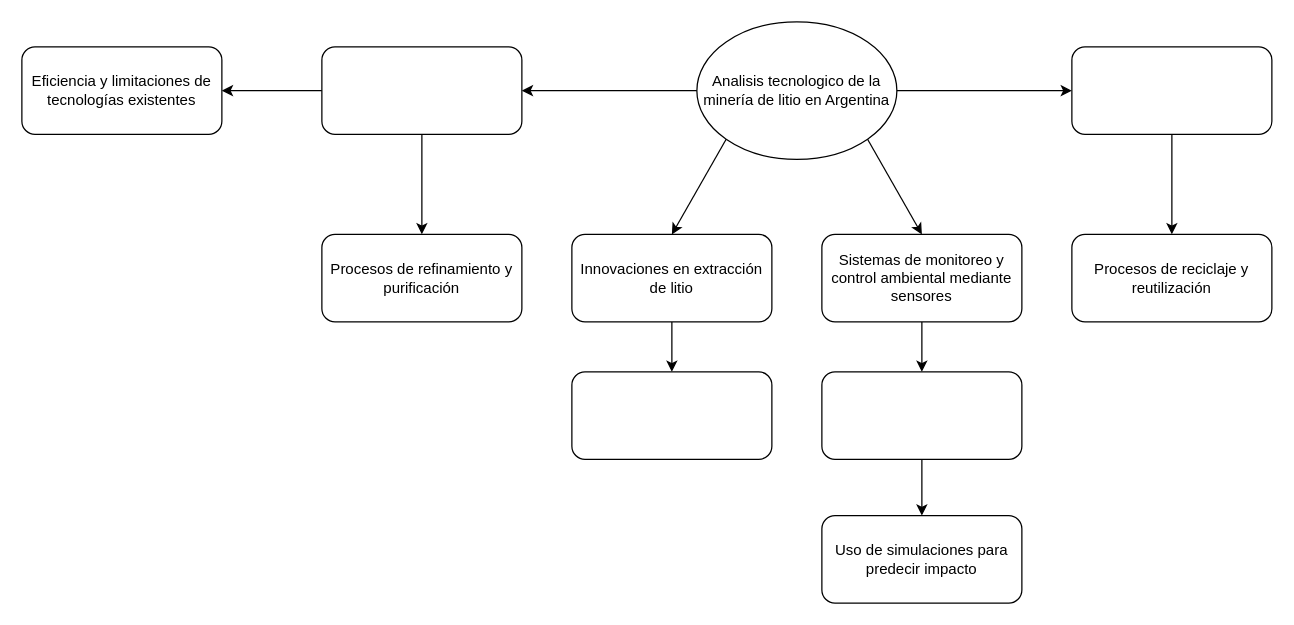
This 1294x625 diagram has some shape labels left out. Each missing label, with the centre of its shape:
Automatización y digitalización en la minería: (921,415)
Desarrollo de baterías alternativas: (1171,90)
Tecnologías actuales de extracción en Argentina: (421,90)
Tecnologías de reducción de consumo de agua: (671,415)
